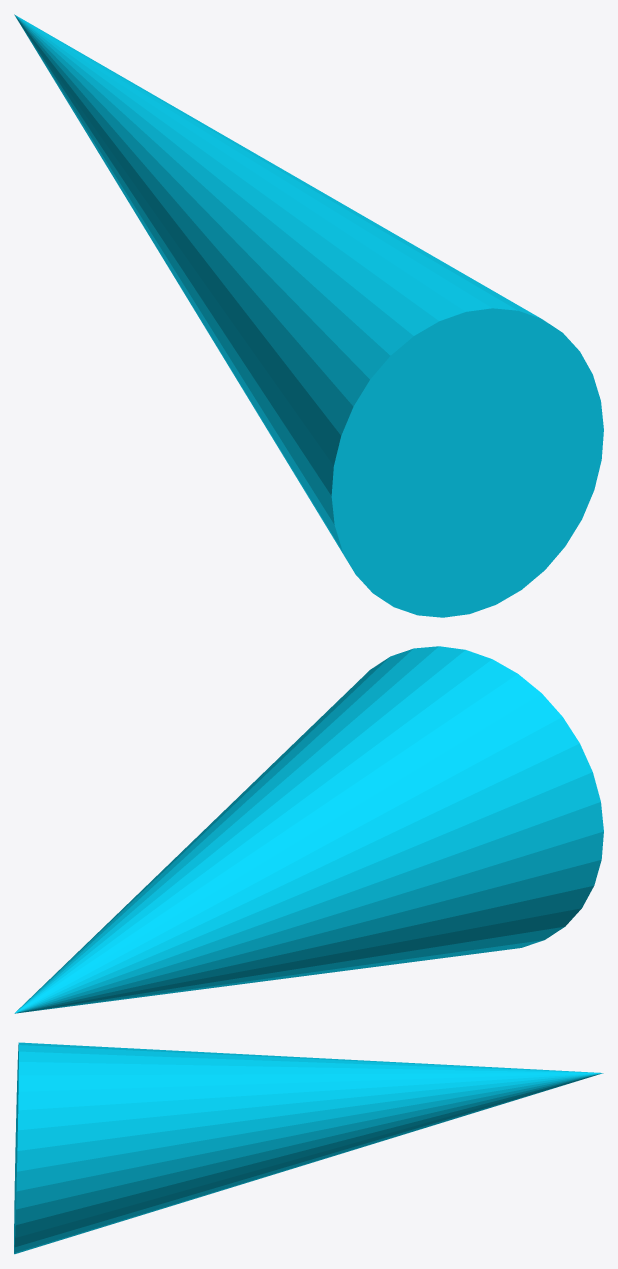
The model's file is blue_tail.obj.
The picture shows the model from 3 angles, top to bottom: view 1: azimuth 30°, elevation 25°; view 2: azimuth 150°, elevation 25°; view 3: azimuth 270°, elevation 25°; orthographic projection. The views are drawn at different scales.
Parts seen in each view (by area): view 1: blue_tail:Mesh; view 2: blue_tail:Mesh; view 3: blue_tail:Mesh.
Boxes of the visible parts, bbox=[...] form: blue_tail:Mesh: bbox=[14, 14, 603, 617]; blue_tail:Mesh: bbox=[14, 646, 603, 1013]; blue_tail:Mesh: bbox=[14, 1042, 603, 1254].
Bounding box in the file's own units: 0.5811 × 0.6105 × 1.68.
Materials: 1 (1 with a texture image).
